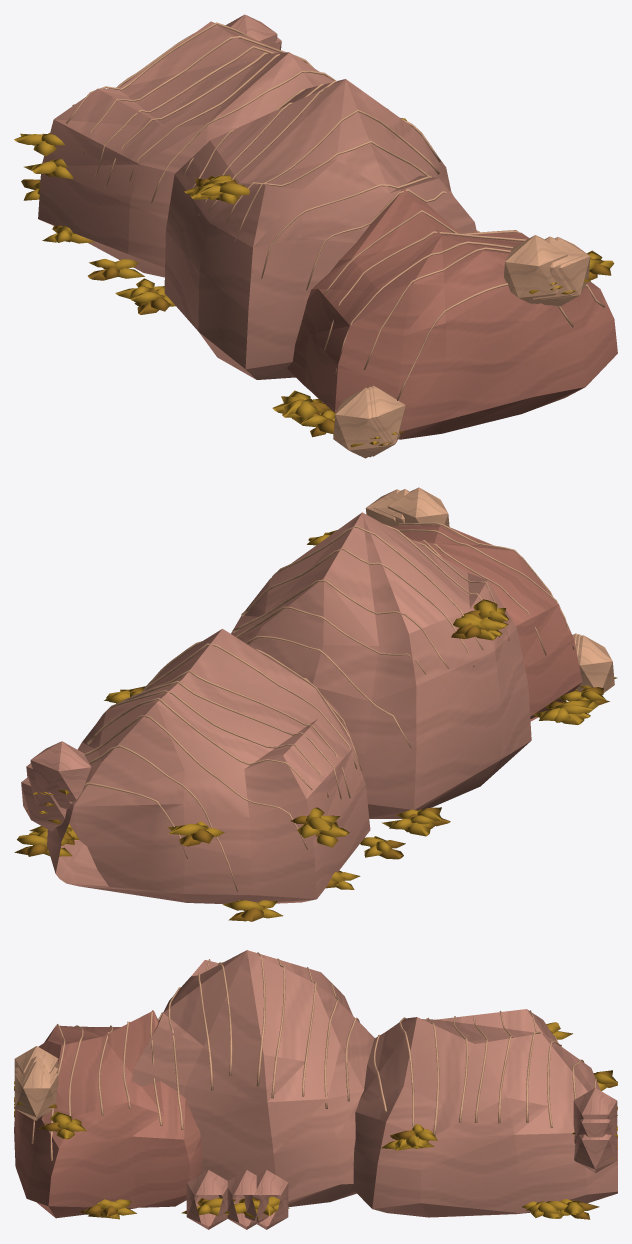
The model's file is PilotRidgeN_0.fbx.
3 renders of one model, top to bottom at view 1: azimuth 30°, elevation 25°; view 2: azimuth 150°, elevation 25°; view 3: azimuth 270°, elevation 25°, orthographic. The views are drawn at different scales.
Parts seen in each view (by area): view 1: PilotRidgeN_0__Geometry; view 2: PilotRidgeN_0__Geometry; view 3: PilotRidgeN_0__Geometry.
Part boxes in pixels (box(x1,y1,x2,y2)): PilotRidgeN_0__Geometry: box(14, 14, 617, 458); PilotRidgeN_0__Geometry: box(14, 487, 617, 921); PilotRidgeN_0__Geometry: box(14, 950, 617, 1229).
Bounding box in the file's own units: 2 × 1.63 × 4.
